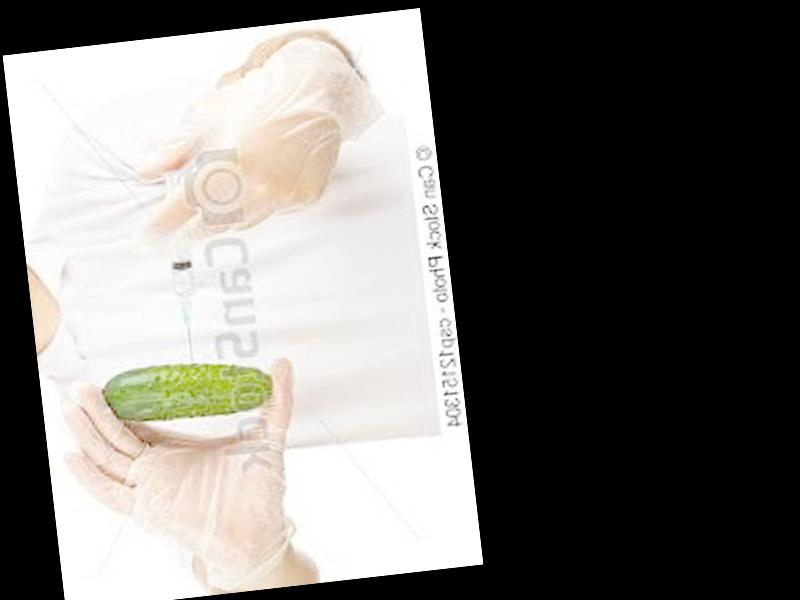Cucumber: (100, 355, 278, 430)
